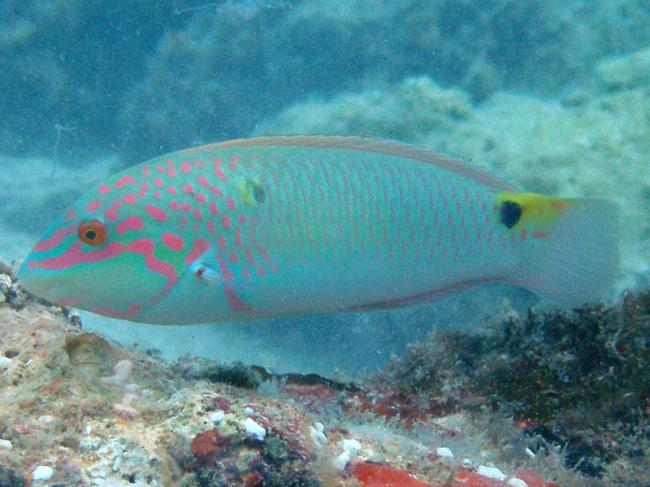fish: (17, 133, 622, 328)
